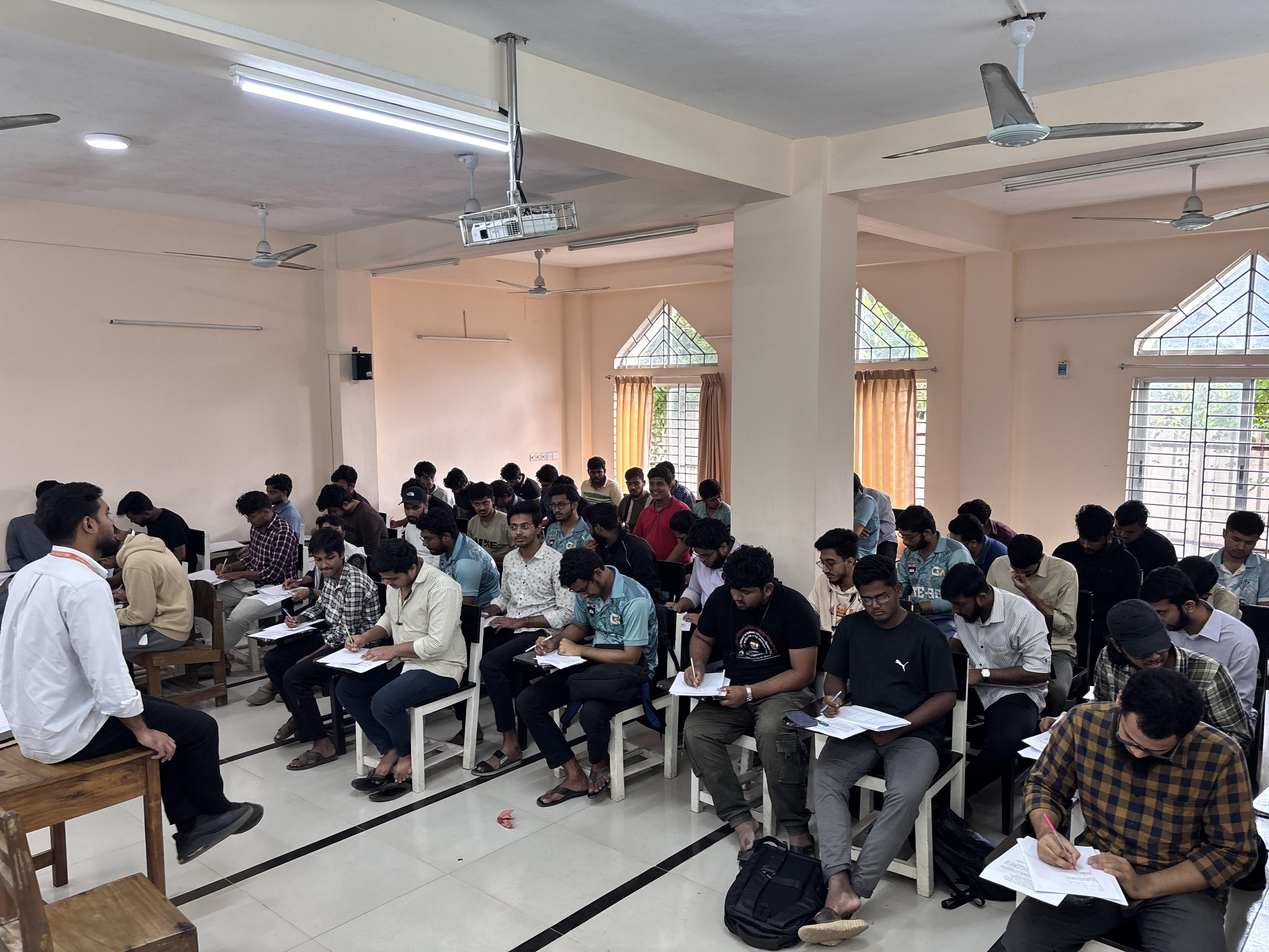copying: (266, 527, 352, 650)
invigilator: (0, 475, 137, 773)
no_cheating: (1012, 667, 1269, 952), (812, 556, 958, 812), (538, 543, 659, 751), (338, 532, 452, 746), (675, 546, 799, 724), (930, 556, 1034, 700), (489, 504, 568, 650), (977, 529, 1087, 626), (113, 475, 205, 567), (211, 486, 283, 598), (663, 519, 738, 623), (1059, 502, 1135, 604), (1202, 508, 1269, 620), (892, 504, 957, 592), (804, 524, 866, 612), (307, 477, 368, 537), (532, 474, 585, 540), (639, 464, 681, 538), (609, 455, 650, 518), (397, 445, 445, 491), (578, 455, 614, 496)
side_talking: (573, 491, 647, 570), (460, 482, 510, 543)
suspicious_moving: (1087, 590, 1210, 675), (389, 472, 441, 538)
